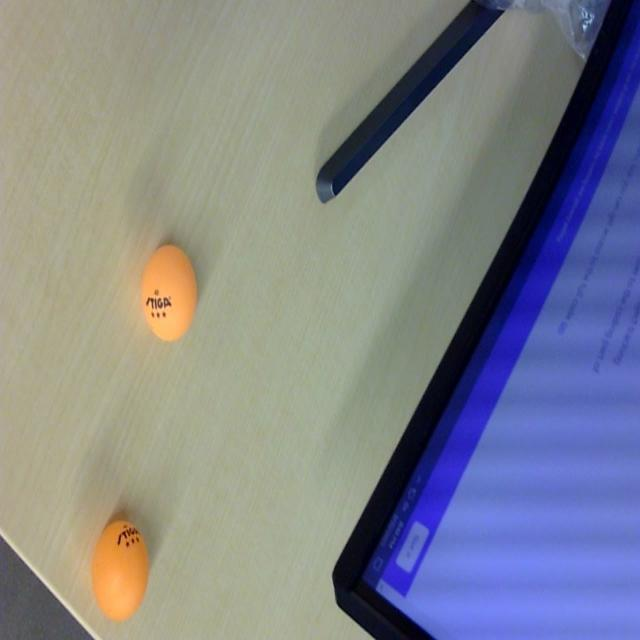ball: (90, 514, 150, 624), (140, 240, 200, 348)
